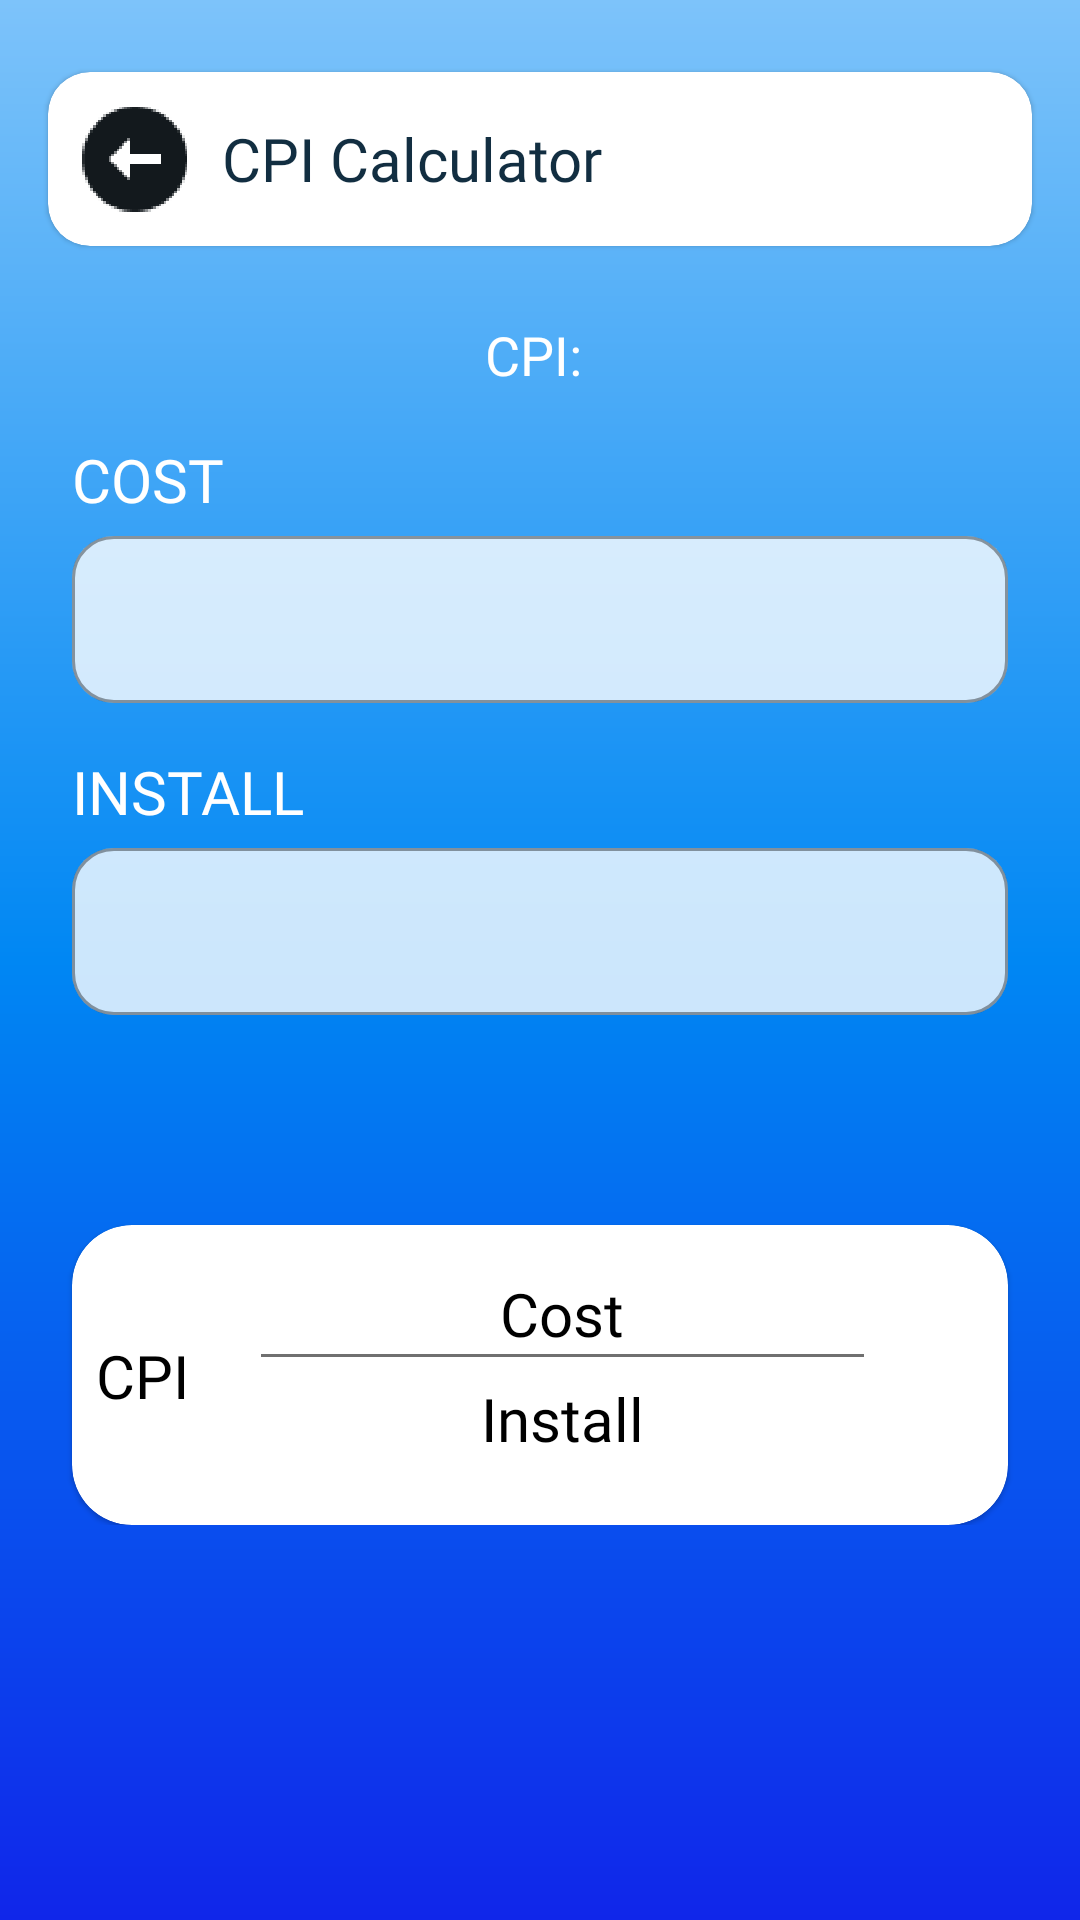

Where icons sit on this 1080 x 1920 app screen, as (x1, y1, x2, y2):
scroll back: (82, 107, 187, 212)
